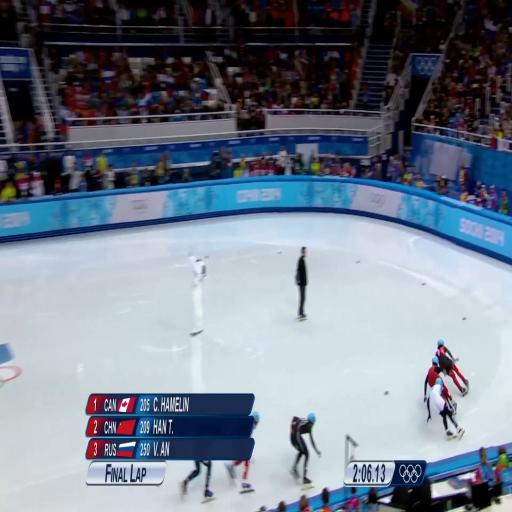Skater: (291, 413, 321, 490), (427, 378, 464, 439), (436, 340, 468, 396), (179, 461, 214, 502), (226, 460, 254, 493), (424, 357, 443, 402)
